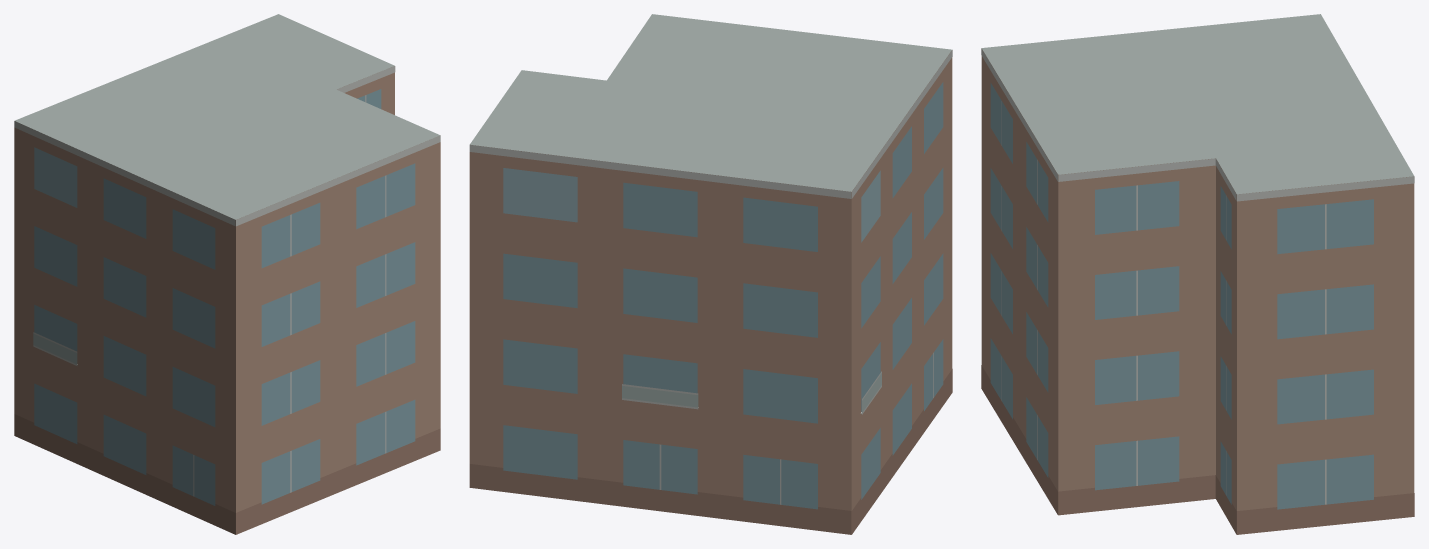
File: survey-upis-32957469.glb
The picture shows the model from 3 angles, left to right: view 1: azimuth 30°, elevation 25°; view 2: azimuth 150°, elevation 25°; view 3: azimuth 270°, elevation 25°; orthographic projection. The views are drawn at different scales.
Parts seen in each view (by area): view 1: survey-upis-32957469.tmp; view 2: survey-upis-32957469.tmp; view 3: survey-upis-32957469.tmp.
Part boxes in pixels (x1,y1,x2,y2): survey-upis-32957469.tmp: (14,14,440,534); survey-upis-32957469.tmp: (469,14,952,534); survey-upis-32957469.tmp: (981,14,1414,534).
Bounding box in the file's own units: 13.19 × 11.6 × 13.38.
